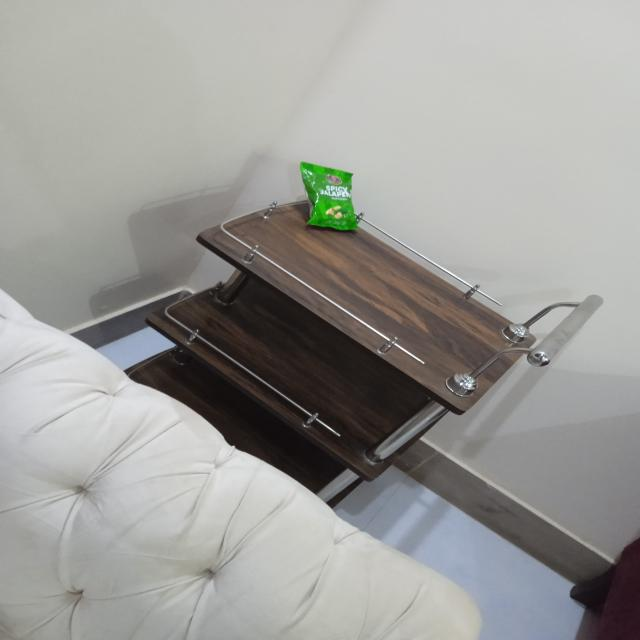Plastic: (291, 157, 367, 240)
